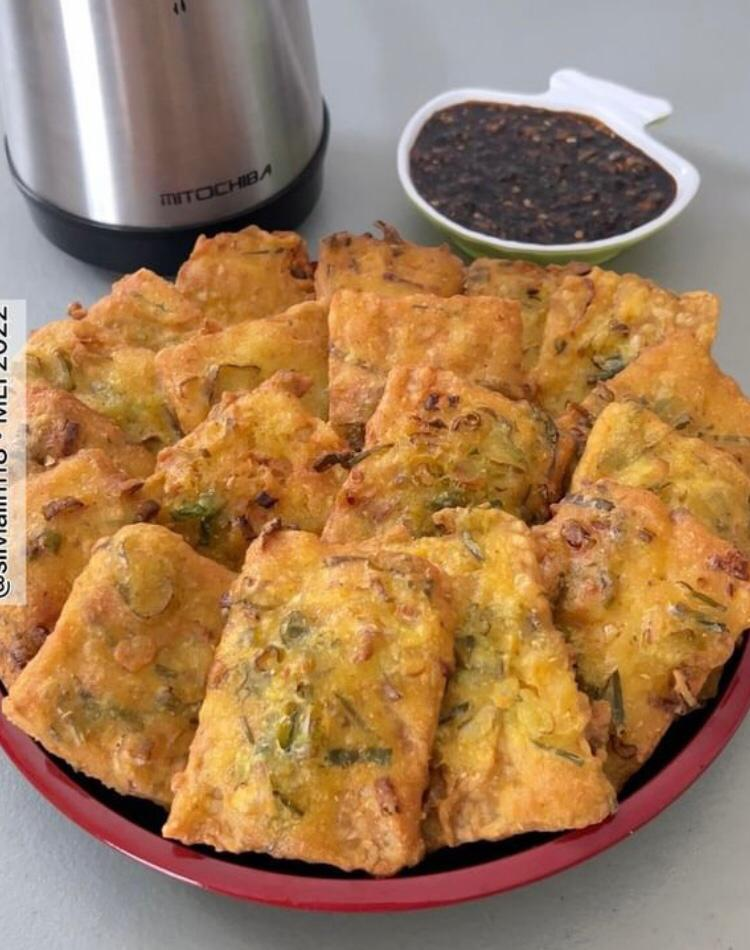Tempe: (171, 535, 459, 791), (525, 493, 750, 745), (423, 550, 594, 854)
